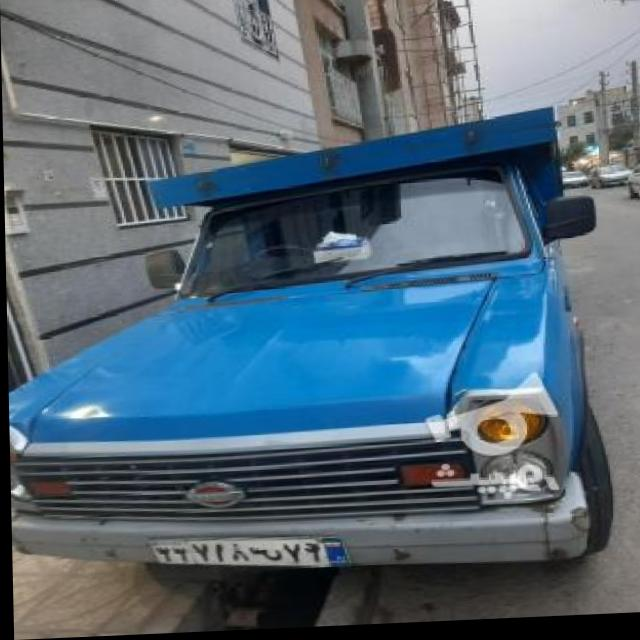licence: (149, 534, 347, 580)
